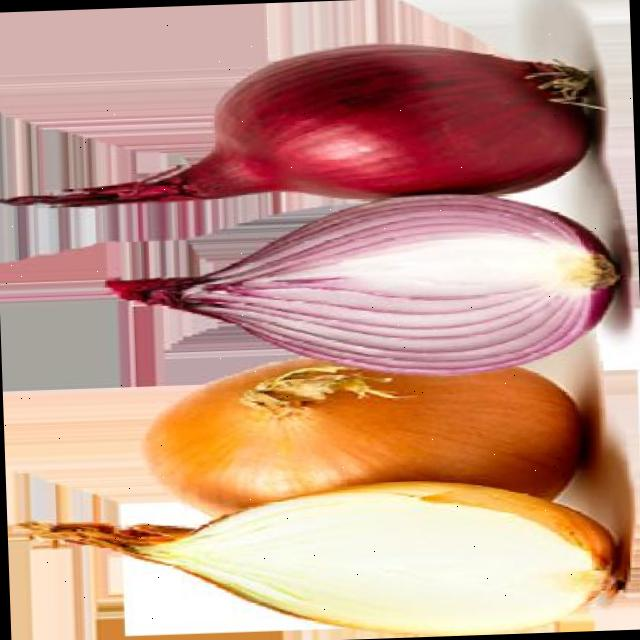Onion: (0, 41, 600, 204)
